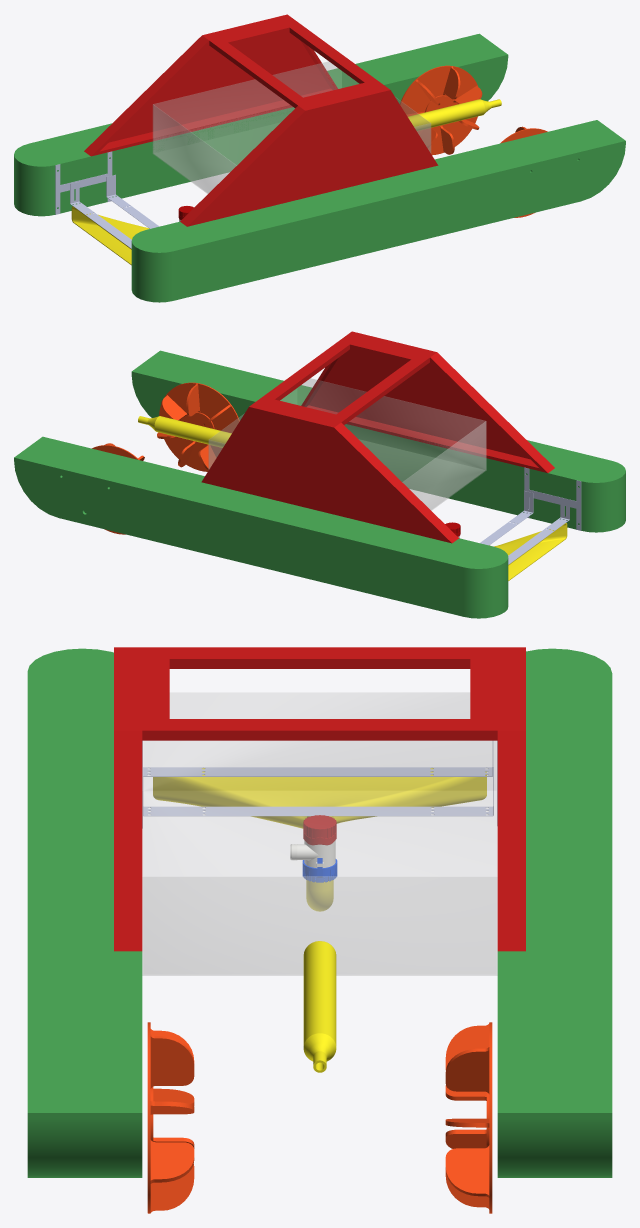
Rendered from Shippy.glb.
3 views of the same model, one above another, from view 1: azimuth 30°, elevation 25°; view 2: azimuth 150°, elevation 25°; view 3: azimuth 270°, elevation 25° (orthographic). The views are drawn at different scales.
Visible parts, largest first — view 1: green satin finish plastic, green satin finish plastic[1], red high gloss plastic, clear glass_clonedChild, clear glass, red high gloss plastic[1], red high gloss plastic-4, red high gloss plastic-3, brushed steel[1], red high gloss plastic-2, yellow high gloss plastic, yellow medium gloss plastic (+3 smaller); view 2: green satin finish plastic[1], green satin finish plastic, red high gloss plastic[1], clear glass_clonedChild, clear glass, red high gloss plastic, red high gloss plastic-2, red high gloss plastic-3, brushed steel, red high gloss plastic-4, yellow medium gloss plastic, yellow high gloss plastic (+3 smaller); view 3: clear glass_clonedChild, clear glass, green satin finish plastic, green satin finish plastic[1], red high gloss plastic-3, yellow high gloss plastic, red high gloss plastic-2, red high gloss plastic-4, brushed steel[1], brushed steel, yellow medium gloss plastic, color-2[1] (+3 smaller).
Boxes of the visible parts, x1,y1,x2,y2 form: green satin finish plastic: [131, 120, 625, 302]; green satin finish plastic[1]: [14, 33, 508, 216]; red high gloss plastic: [187, 90, 438, 226]; clear glass_clonedChild: [153, 62, 430, 193]; clear glass: [153, 62, 430, 193]; red high gloss plastic[1]: [84, 14, 330, 151]; red high gloss plastic-4: [84, 14, 337, 156]; red high gloss plastic-3: [209, 19, 382, 108]; brushed steel[1]: [400, 65, 482, 155]; red high gloss plastic-2: [180, 85, 389, 226]; yellow high gloss plastic: [71, 206, 149, 265]; yellow medium gloss plastic: [408, 99, 501, 130]; green satin finish plastic[1]: [14, 436, 508, 618]; green satin finish plastic: [131, 350, 625, 532]; red high gloss plastic[1]: [201, 406, 451, 543]; clear glass_clonedChild: [209, 379, 485, 510]; clear glass: [209, 379, 485, 509]; red high gloss plastic: [309, 331, 554, 467]; red high gloss plastic-2: [301, 331, 554, 472]; red high gloss plastic-3: [256, 336, 429, 424]; brushed steel: [157, 382, 239, 471]; red high gloss plastic-4: [249, 401, 458, 542]; yellow medium gloss plastic: [138, 416, 231, 447]; yellow high gloss plastic: [489, 523, 567, 580]; clear glass_clonedChild: [143, 692, 496, 975]; clear glass: [143, 692, 496, 975]; green satin finish plastic: [27, 648, 142, 1177]; green satin finish plastic[1]: [497, 648, 612, 1177]; red high gloss plastic-3: [142, 647, 497, 740]; yellow high gloss plastic: [153, 768, 486, 911]; red high gloss plastic-2: [115, 647, 142, 951]; red high gloss plastic-4: [497, 647, 524, 951]; brushed steel[1]: [445, 1022, 492, 1213]; brushed steel: [147, 1022, 194, 1213]; yellow medium gloss plastic: [303, 941, 336, 1072]; color-2[1]: [143, 767, 493, 816].
Bounding box in the file's own units: 2.01 × 0.6764 × 1.07.
